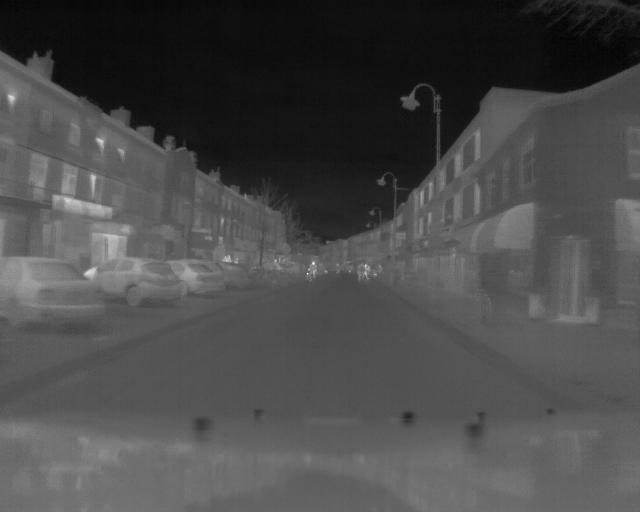car: (1, 257, 105, 326), (89, 252, 183, 312), (169, 256, 230, 300)
person: (308, 257, 320, 281), (356, 261, 367, 282)
